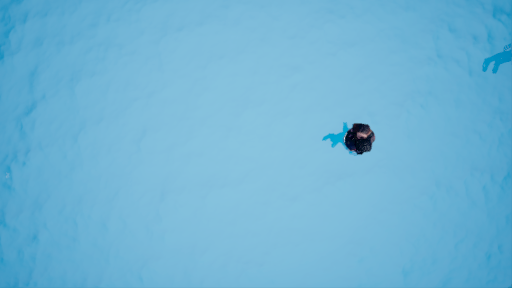person: (326, 121, 377, 157)
